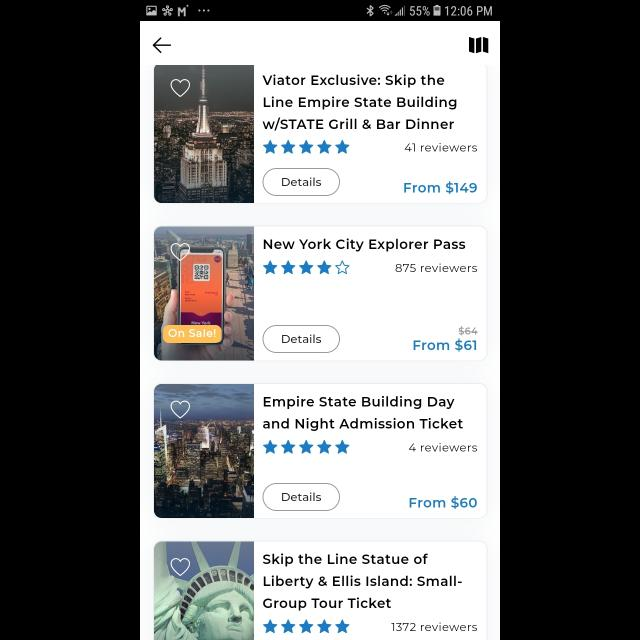icon: (262, 260, 350, 274), (262, 619, 350, 633), (262, 440, 350, 454), (262, 140, 350, 154), (171, 78, 191, 98), (170, 243, 190, 261), (469, 37, 489, 54), (172, 558, 190, 576), (172, 400, 190, 418), (153, 38, 171, 54)
image: (154, 65, 254, 203), (154, 384, 254, 518), (154, 227, 254, 361), (154, 542, 254, 640)
text: (263, 553, 462, 611), (263, 75, 457, 132), (263, 396, 463, 432), (263, 238, 465, 252), (410, 495, 478, 509), (414, 338, 476, 352), (405, 182, 477, 194), (391, 623, 477, 631), (396, 264, 476, 272), (410, 443, 478, 452), (405, 144, 477, 152), (458, 326, 478, 336)
textbutton: (263, 482, 341, 512), (263, 325, 341, 353), (263, 168, 341, 196), (163, 325, 221, 343)
uppertaskbar: (140, 1, 500, 22)
